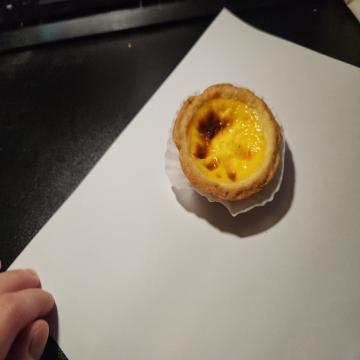EggTart: (172, 81, 282, 201)
